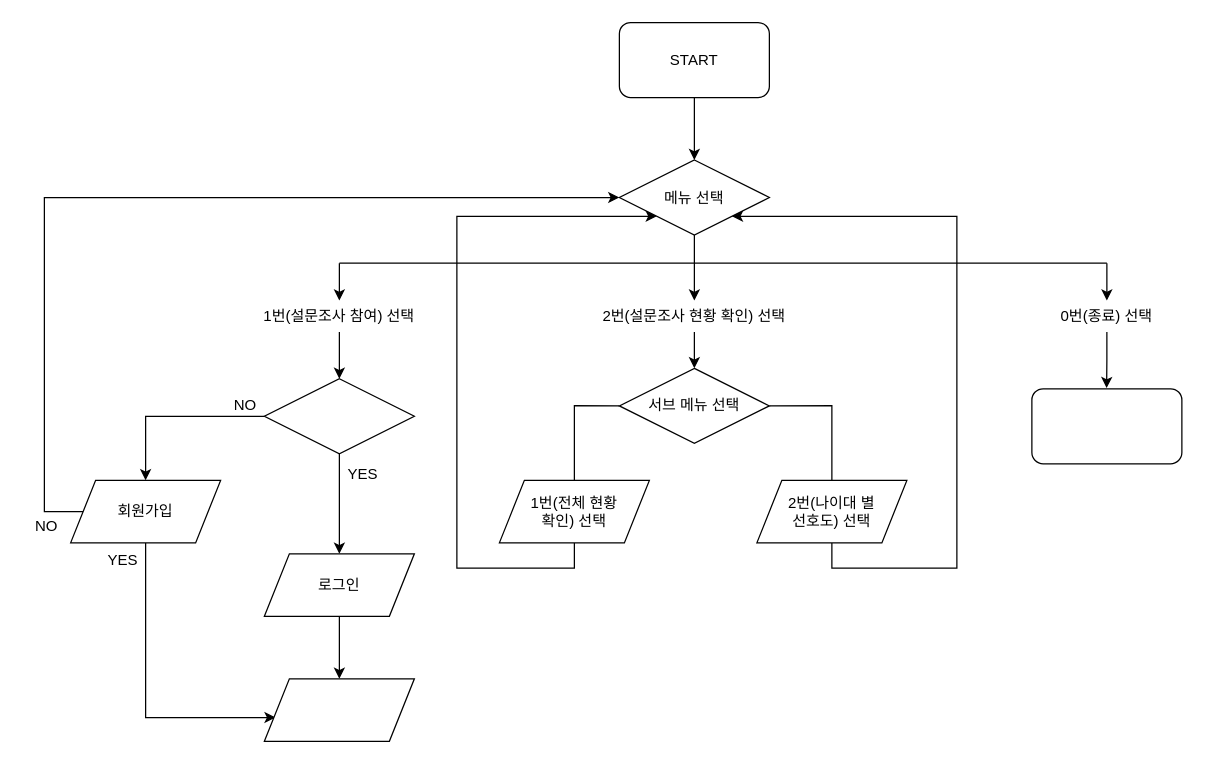
The diagram is 1228 pixels wide and 763 high, and some of its shapes have lost their labels. Each missing label, with the centre of its shape:
"END" belongs at pixel 1106 426.
"설문조사 참여" belongs at pixel 338 709.
"회원인가?" belongs at pixel 338 416.
